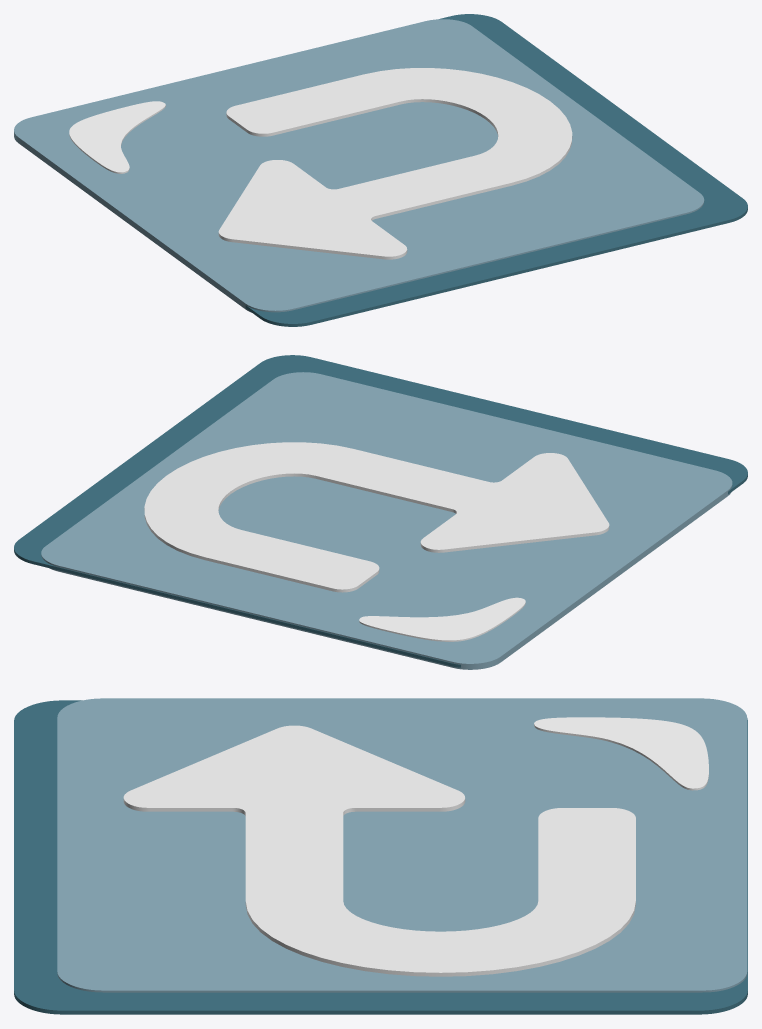
File: emoji_u21a9.glb
The picture shows the model from 3 angles, top to bottom: view 1: azimuth 30°, elevation 25°; view 2: azimuth 150°, elevation 25°; view 3: azimuth 270°, elevation 25°; orthographic projection. The views are drawn at different scales.
Parts seen in each view (by area): view 1: emoji_u21a9; view 2: emoji_u21a9; view 3: emoji_u21a9.
Boxes of the visible parts, box(x1,y1,x2,y2) form: emoji_u21a9: box(14, 14, 747, 326); emoji_u21a9: box(14, 355, 747, 669); emoji_u21a9: box(14, 698, 747, 1014).
Bounding box in the file's own units: 0.0339 × 0.0008 × 0.0339.
